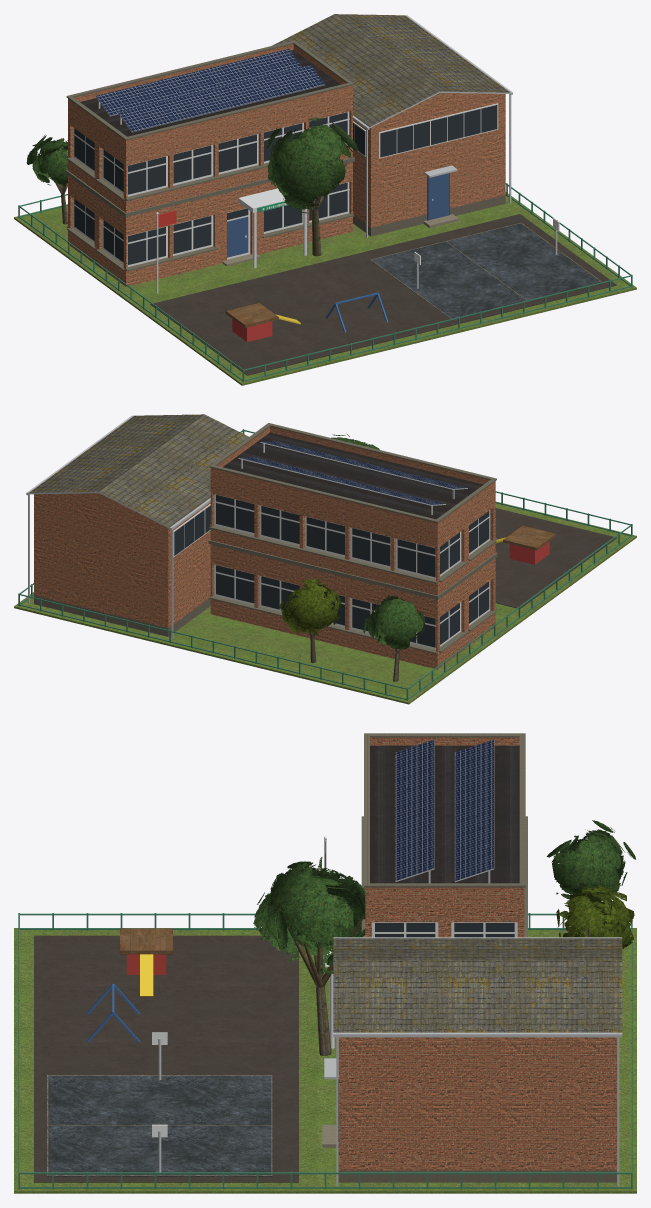
Rendered from school.glb.
The picture shows the model from 3 angles, top to bottom: view 1: azimuth 30°, elevation 25°; view 2: azimuth 150°, elevation 25°; view 3: azimuth 270°, elevation 25°; orthographic projection. The views are drawn at different scales.
Parts seen in each view (by area): view 1: school_body, school_foliage; view 2: school_body, school_foliage; view 3: school_body, school_foliage.
Boxes of the visible parts, x1,y1,x2,y2 form: school_body: (14, 14, 636, 385); school_foliage: (26, 118, 359, 213); school_body: (14, 414, 636, 704); school_foliage: (278, 433, 425, 649); school_body: (14, 733, 636, 1193); school_foliage: (253, 820, 635, 973).
Size of the model in its own units: 0.94 by 0.3505 by 0.94.
Materials: 31 (16 with a texture image).
